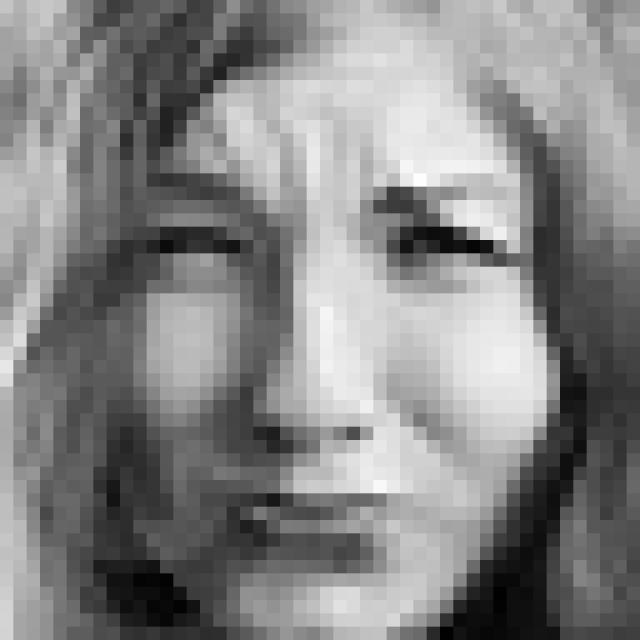disgust: (134, 164, 521, 571)
